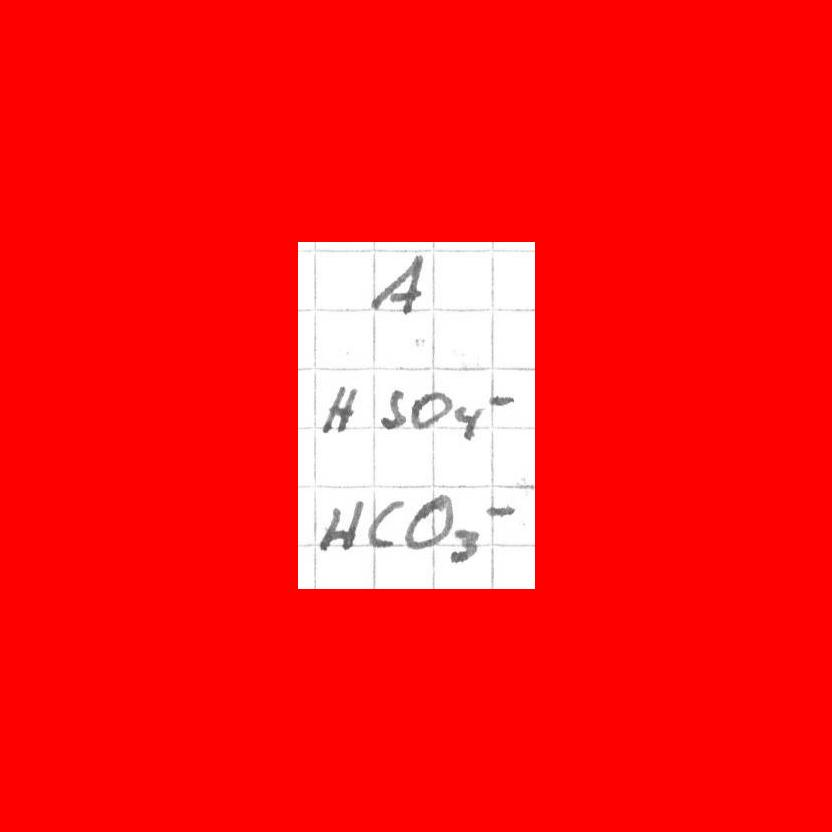Char: (371, 251, 425, 314), (320, 497, 362, 554), (408, 495, 452, 549), (320, 383, 360, 435), (366, 499, 403, 549), (410, 390, 449, 430), (378, 385, 406, 430), (454, 401, 483, 442), (449, 526, 479, 564), (483, 500, 516, 519), (489, 392, 515, 410)
